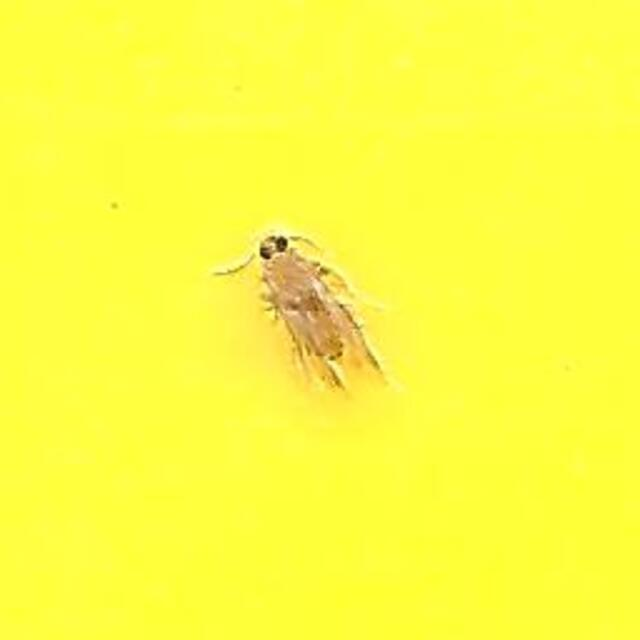Trichoptera: (250, 225, 390, 415)
